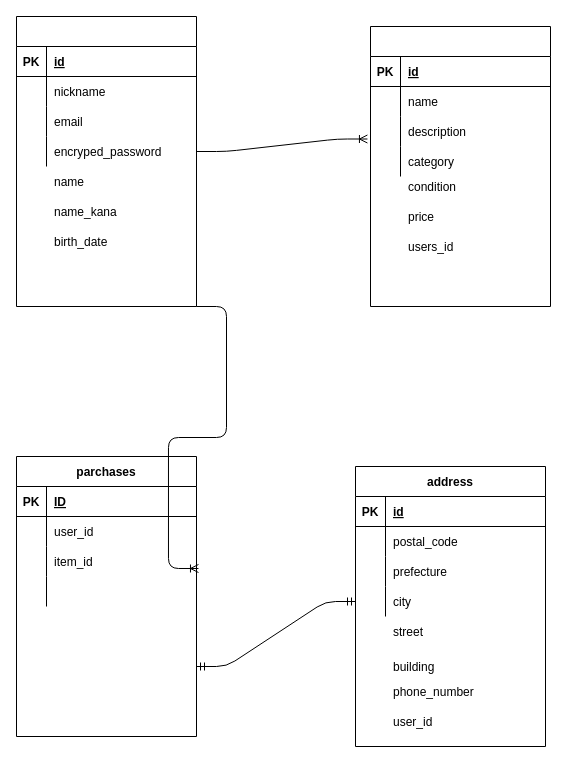
The diagram is 567 pixels wide and 763 high, and some of its shapes have lost their labels. Each missing label, with the box of its shape:
items: (370, 26, 550, 306)
users: (16, 16, 196, 306)
